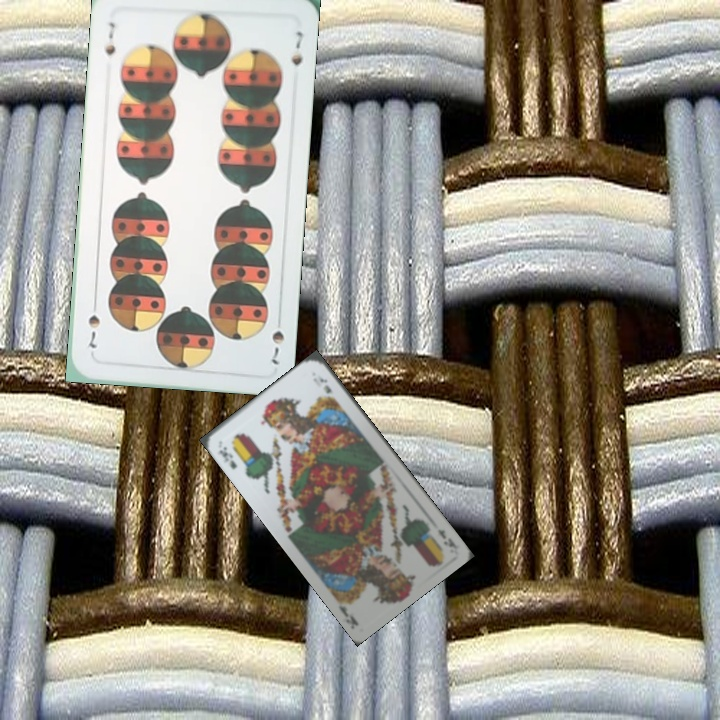EK: (214, 443, 240, 472), (434, 525, 460, 551)
S7: (267, 327, 287, 367), (101, 18, 118, 58)
